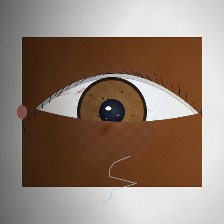foreign_body_visible: (64, 129, 97, 156)
